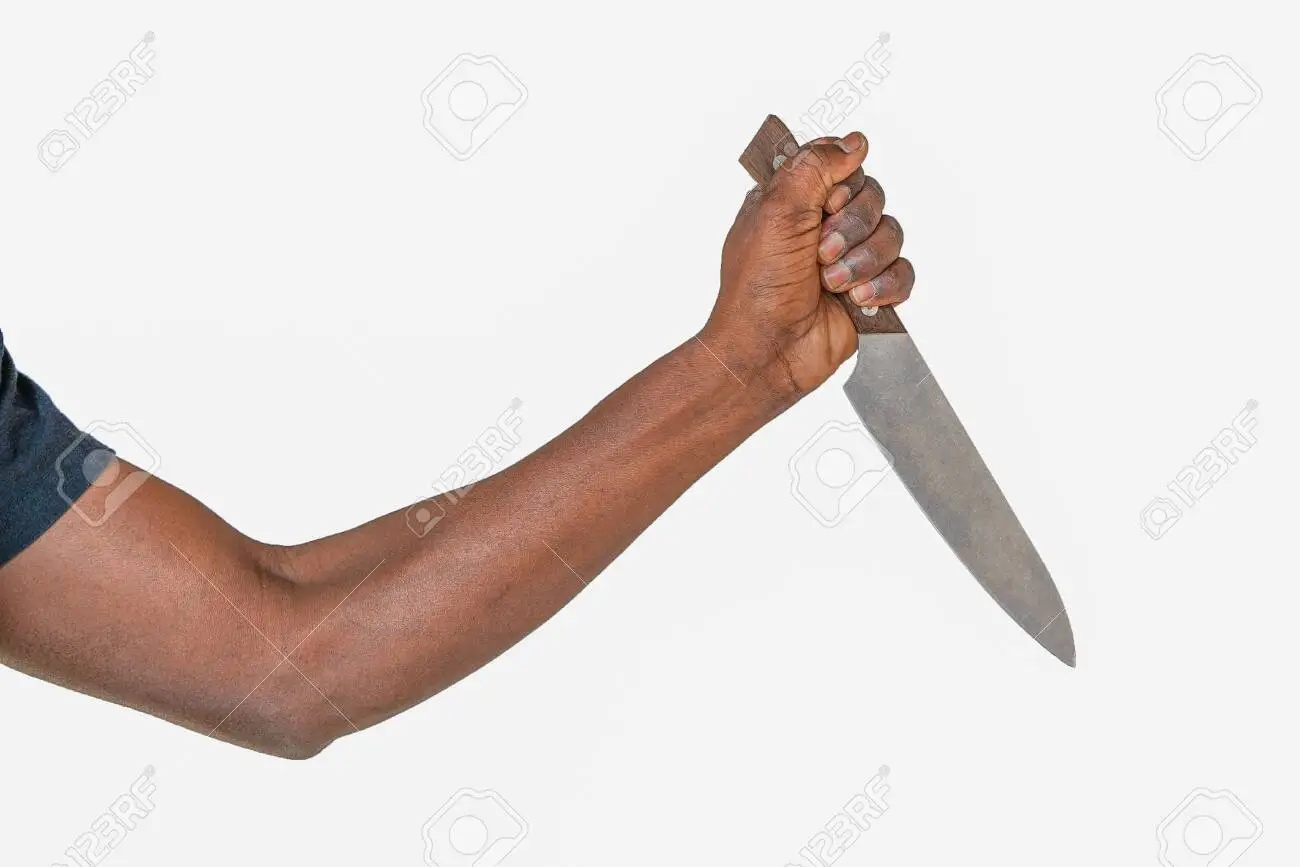knife: (735, 111, 1079, 671)
